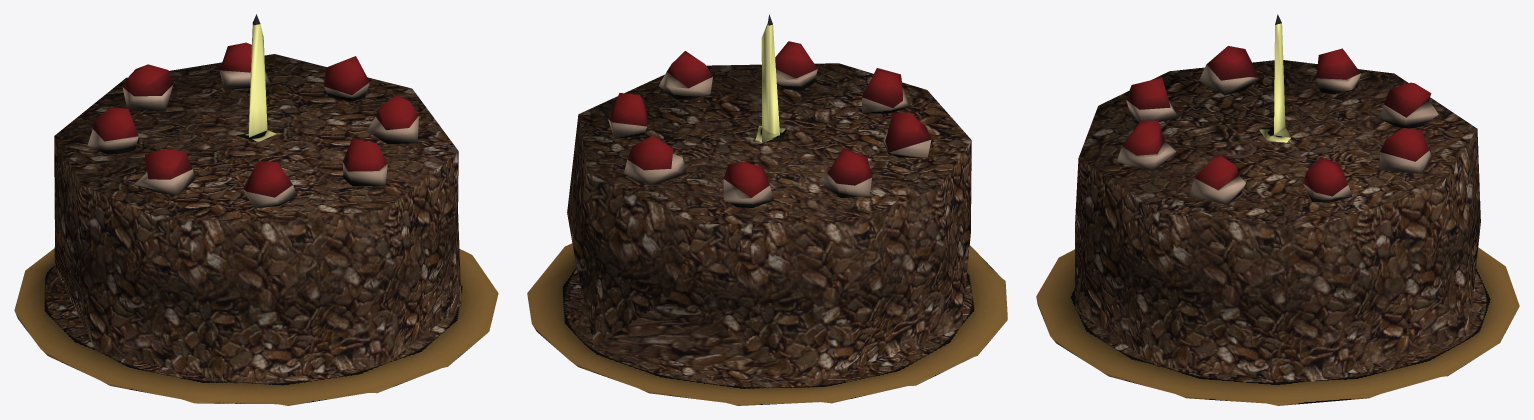
Rendered from food.obj.
The picture shows the model from 3 angles, left to right: view 1: azimuth 30°, elevation 25°; view 2: azimuth 150°, elevation 25°; view 3: azimuth 270°, elevation 25°; orthographic projection.
Parts seen in each view (by area): view 1: cake_reference; view 2: cake_reference; view 3: cake_reference.
Part boxes in pixels (box(x1,y1,x2,y2)): cake_reference: box(14, 14, 498, 405); cake_reference: box(527, 14, 1007, 405); cake_reference: box(1036, 14, 1519, 405).
Bounding box in the file's own units: 1.93 × 1.28 × 1.93.
1 material, 1 textured.
